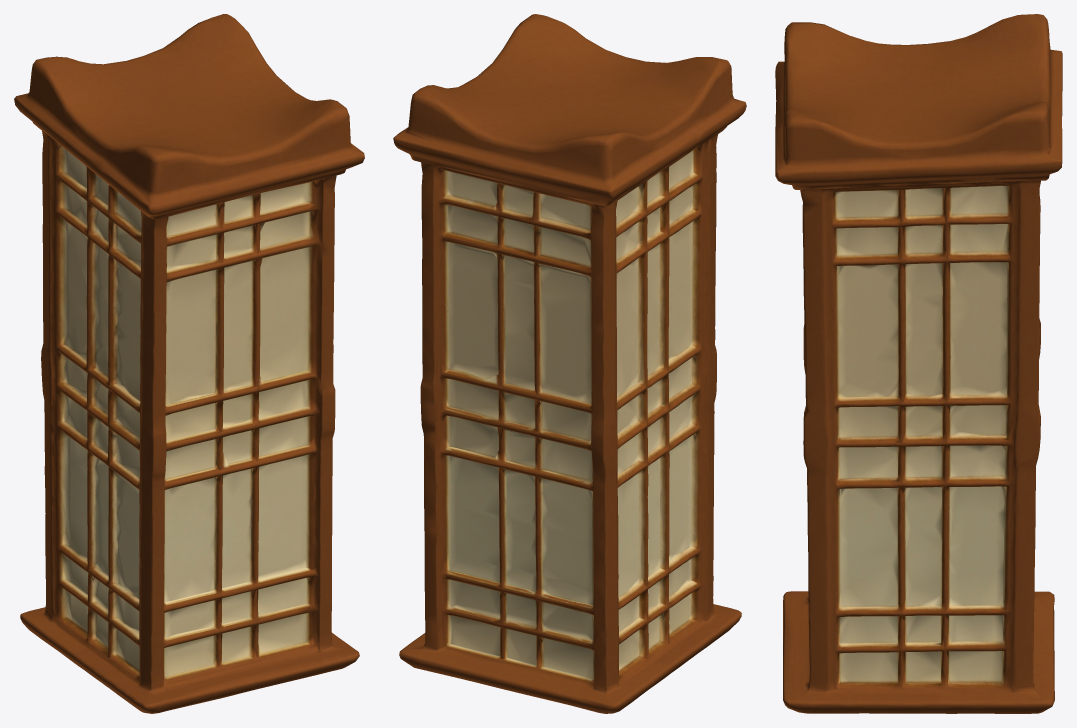
The model's file is Floor Lamp.fbx.
3 views of the same model, side by side, from view 1: azimuth 30°, elevation 25°; view 2: azimuth 150°, elevation 25°; view 3: azimuth 270°, elevation 25° (orthographic). The views are drawn at different scales.
Parts seen in each view (by area): view 1: tripo_node_a892e920; view 2: tripo_node_a892e920; view 3: tripo_node_a892e920.
Boxes of the visible parts, box(x1,y1,x2,y2) form: tripo_node_a892e920: box(14, 14, 364, 713); tripo_node_a892e920: box(393, 14, 746, 713); tripo_node_a892e920: box(775, 14, 1062, 713).
Bounding box in the file's own units: 37.8 × 97.32 × 40.97.
